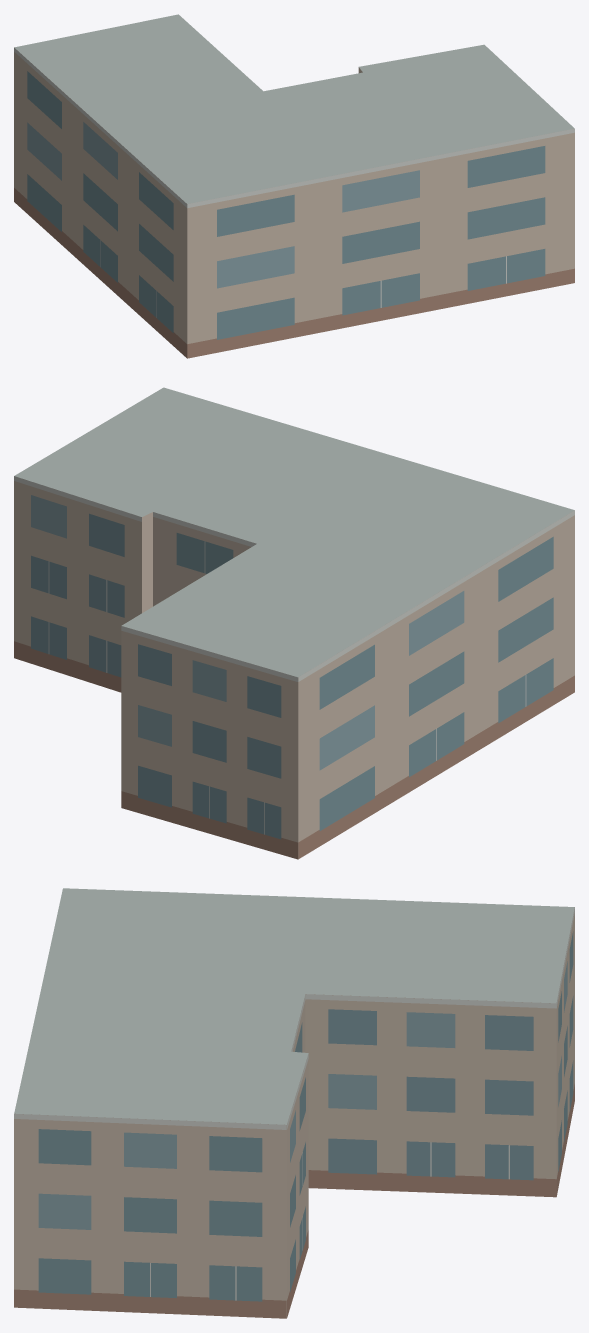
Rendered from survey-upis-32766166.glb.
3 views of the same model, one above another, from view 1: azimuth 30°, elevation 25°; view 2: azimuth 150°, elevation 25°; view 3: azimuth 270°, elevation 25° (orthographic). The views are drawn at different scales.
Visible parts, largest first — view 1: survey-upis-32766166.tmp; view 2: survey-upis-32766166.tmp; view 3: survey-upis-32766166.tmp.
Boxes of the visible parts, x1,y1,x2,y2 form: survey-upis-32766166.tmp: [14, 14, 574, 358]; survey-upis-32766166.tmp: [14, 387, 574, 859]; survey-upis-32766166.tmp: [14, 888, 574, 1318].
Size of the model in its own units: 23.96 by 9.15 by 24.
